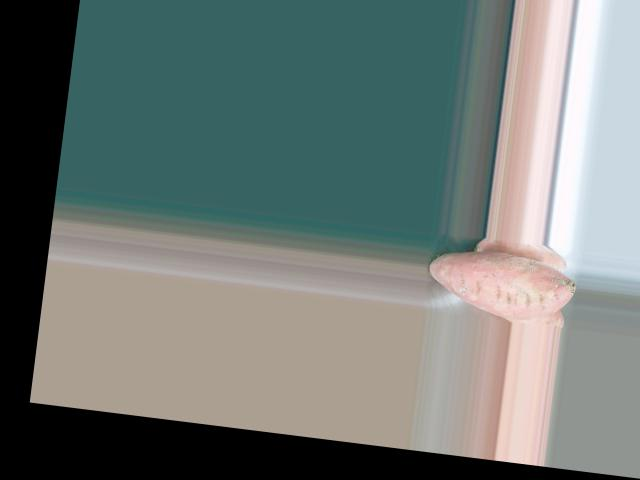sweet_potato: (426, 251, 578, 320)
